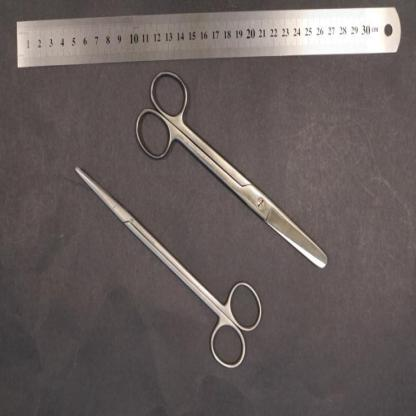7 Metzenbaum Scissors: (74, 166, 263, 374)
Dressing Scissors: (134, 67, 329, 270)
